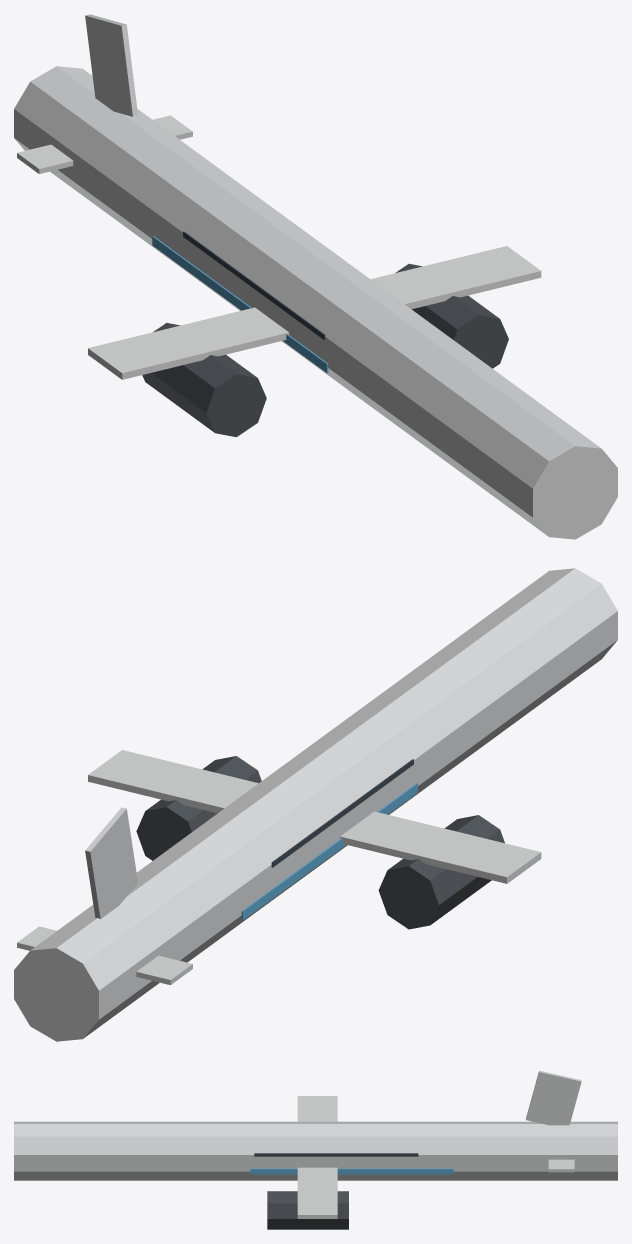
The model's file is airliner_lowpoly.glb.
3 renders of one model, top to bottom at view 1: azimuth 30°, elevation 25°; view 2: azimuth 150°, elevation 25°; view 3: azimuth 270°, elevation 25°, orthographic. The views are drawn at different scales.
Parts seen in each view (by area): view 1: Fuselage, Nose, Wing, Engine, Fin, Engine.001, Stab, Stripe, Windows; view 2: Fuselage, Wing, Nose, Engine, Fin, Engine.001, Stab, Stripe, Windows; view 3: Fuselage, Nose, Wing, Fin, Engine.001, Stripe.001, Windows.001, Stab.
Boxes of the visible parts, bbox=[...] form: Fuselage: bbox=[14, 66, 539, 490]; Nose: bbox=[471, 401, 617, 539]; Wing: bbox=[88, 246, 541, 379]; Engine: bbox=[142, 323, 266, 437]; Fin: bbox=[85, 14, 137, 116]; Engine.001: bbox=[395, 263, 508, 368]; Stab: bbox=[17, 115, 192, 173]; Stripe: bbox=[152, 236, 328, 373]; Windows: bbox=[183, 231, 325, 339]; Fuselage: bbox=[14, 613, 555, 1041]; Wing: bbox=[88, 750, 541, 883]; Nose: bbox=[488, 568, 617, 703]; Engine: bbox=[378, 815, 504, 929]; Fin: bbox=[85, 807, 137, 918]; Engine.001: bbox=[136, 756, 261, 860]; Stab: bbox=[17, 926, 192, 984]; Stripe: bbox=[241, 783, 417, 920]; Windows: bbox=[271, 759, 413, 867]; Fuselage: bbox=[86, 1121, 617, 1180]; Nose: bbox=[14, 1121, 85, 1180]; Wing: bbox=[297, 1096, 337, 1218]; Fin: bbox=[526, 1070, 581, 1125]; Engine.001: bbox=[267, 1191, 348, 1229]; Stripe.001: bbox=[250, 1168, 453, 1174]; Windows.001: bbox=[254, 1153, 418, 1156]; Stab: bbox=[548, 1159, 574, 1172].
Bounding box in the file's own units: 18 × 8.69 × 38.6.
